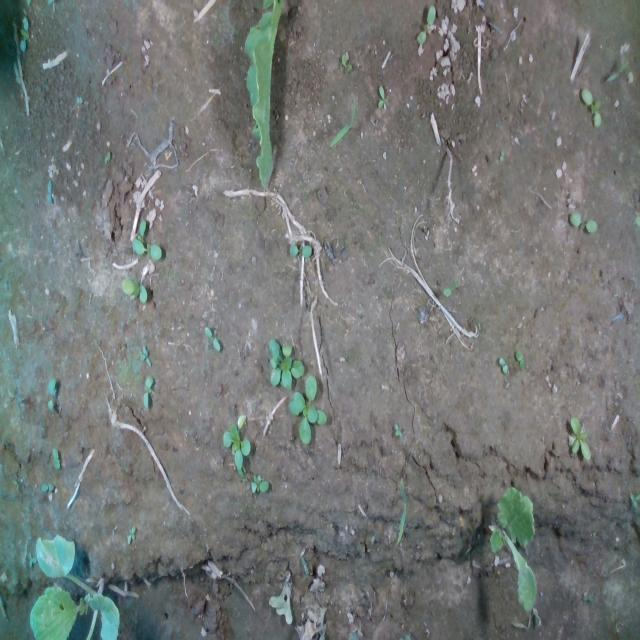weed: (568, 414, 592, 461), (579, 87, 601, 129), (416, 5, 435, 46), (120, 275, 148, 302), (568, 210, 599, 232), (202, 324, 222, 352), (249, 471, 270, 493), (18, 15, 30, 51), (46, 375, 57, 413), (142, 375, 154, 408), (288, 242, 312, 257), (376, 83, 388, 110), (140, 342, 152, 368), (51, 447, 61, 471), (514, 350, 524, 370), (498, 358, 510, 373), (41, 482, 55, 491)
